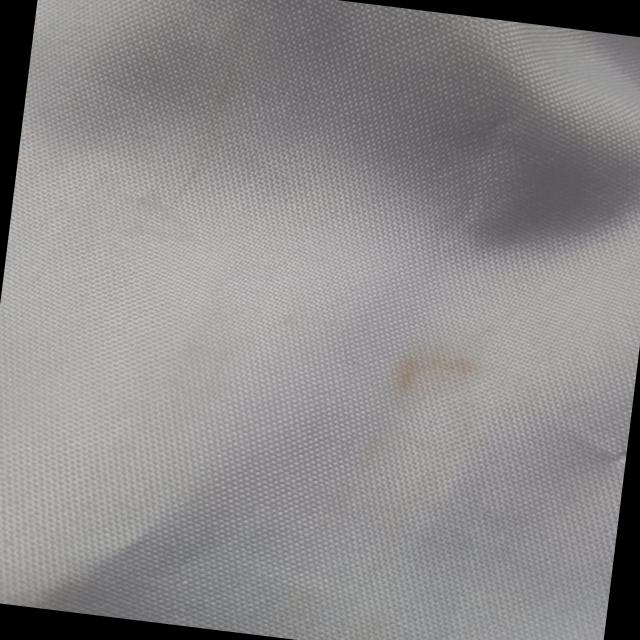stain: (377, 333, 492, 434)
